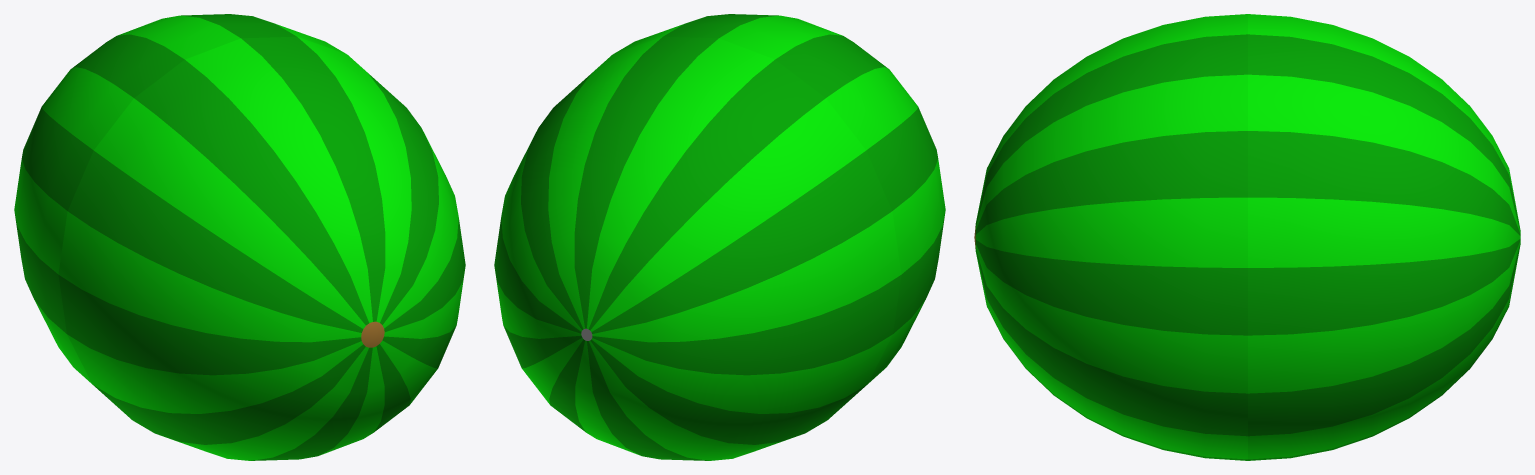
The model's file is spinningwatermelon.fbx.
The picture shows the model from 3 angles, left to right: view 1: azimuth 30°, elevation 25°; view 2: azimuth 150°, elevation 25°; view 3: azimuth 270°, elevation 25°; orthographic projection. The views are drawn at different scales.
Visible parts, largest first — view 1: polySurface4; view 2: polySurface4; view 3: polySurface4.
Boxes of the visible parts, left/top/right/bottom form: polySurface4: left=14, top=14, right=465, bottom=460; polySurface4: left=494, top=14, right=945, bottom=460; polySurface4: left=974, top=14, right=1520, bottom=460.
Bounding box in the file's own units: 2.01 × 2.1 × 2.56.
